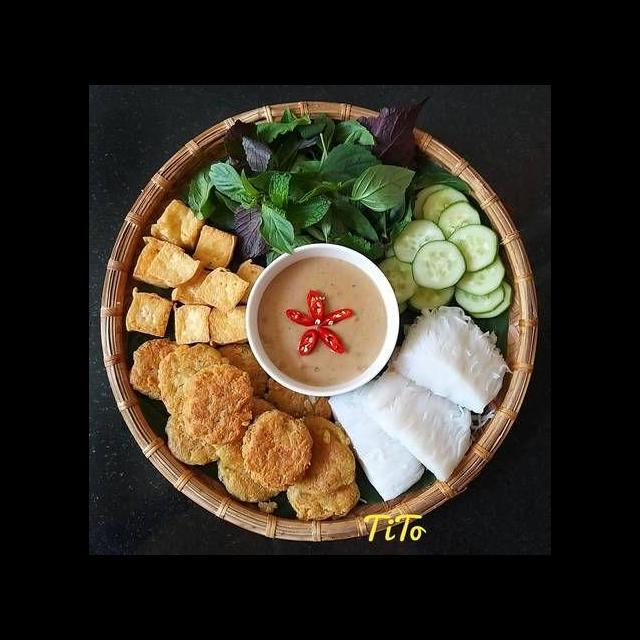bun: (359, 356, 484, 491), (388, 298, 516, 418), (322, 375, 432, 504)
bun dau: (89, 130, 551, 555)
cha com: (124, 334, 366, 526), (177, 359, 260, 451), (238, 403, 315, 499)
dau hu: (123, 195, 255, 311), (118, 280, 183, 340), (163, 295, 225, 347), (227, 253, 267, 302)
